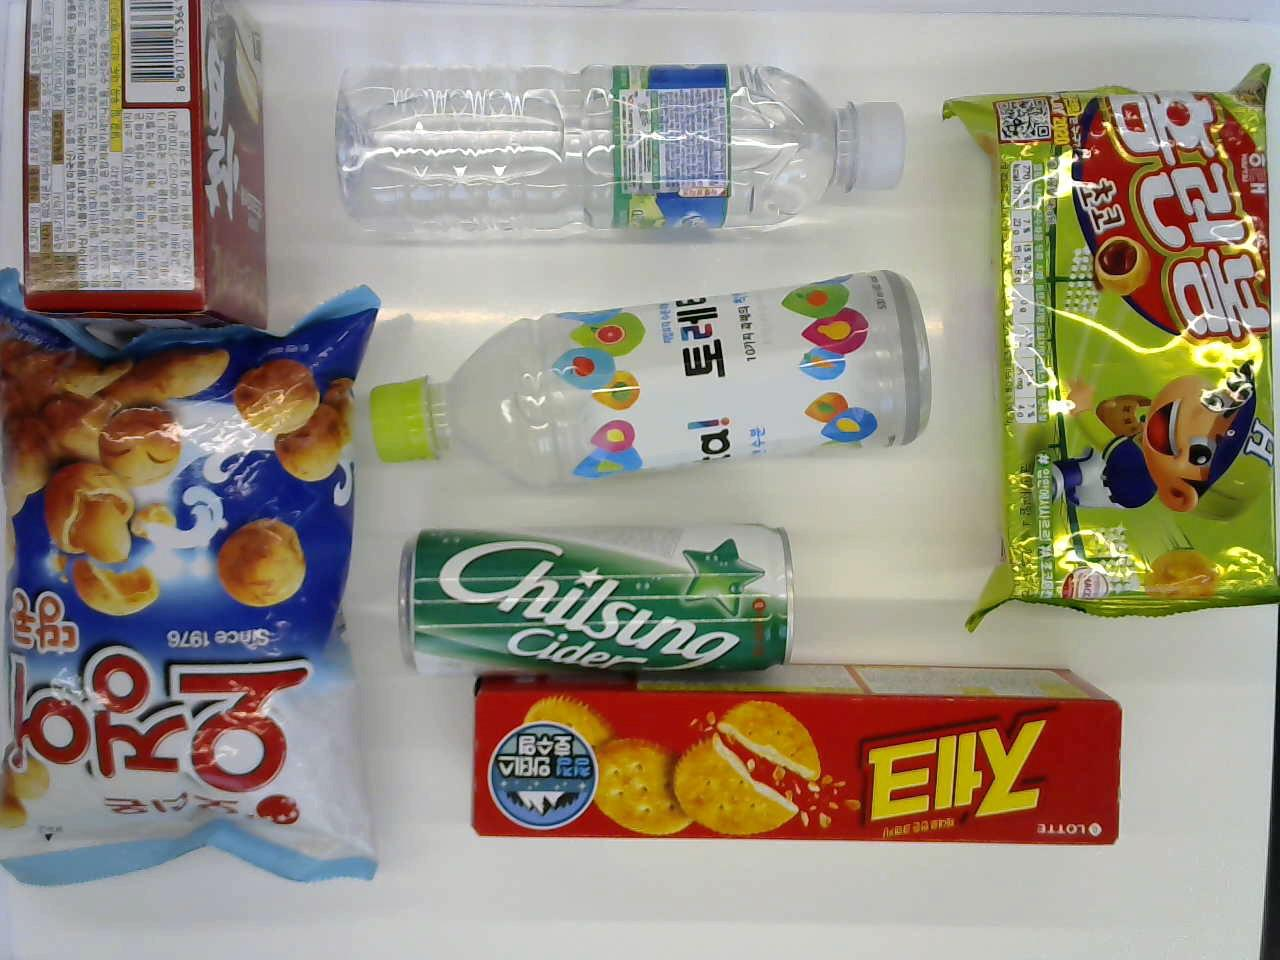chocopie: (17, 0, 279, 343)
cidar: (389, 529, 798, 672)
homerunball: (970, 61, 1270, 613)
samdasu: (331, 44, 911, 258)
squid_peanut: (1, 305, 378, 891)
toreta: (362, 273, 933, 492)
zec: (474, 652, 1133, 866)
